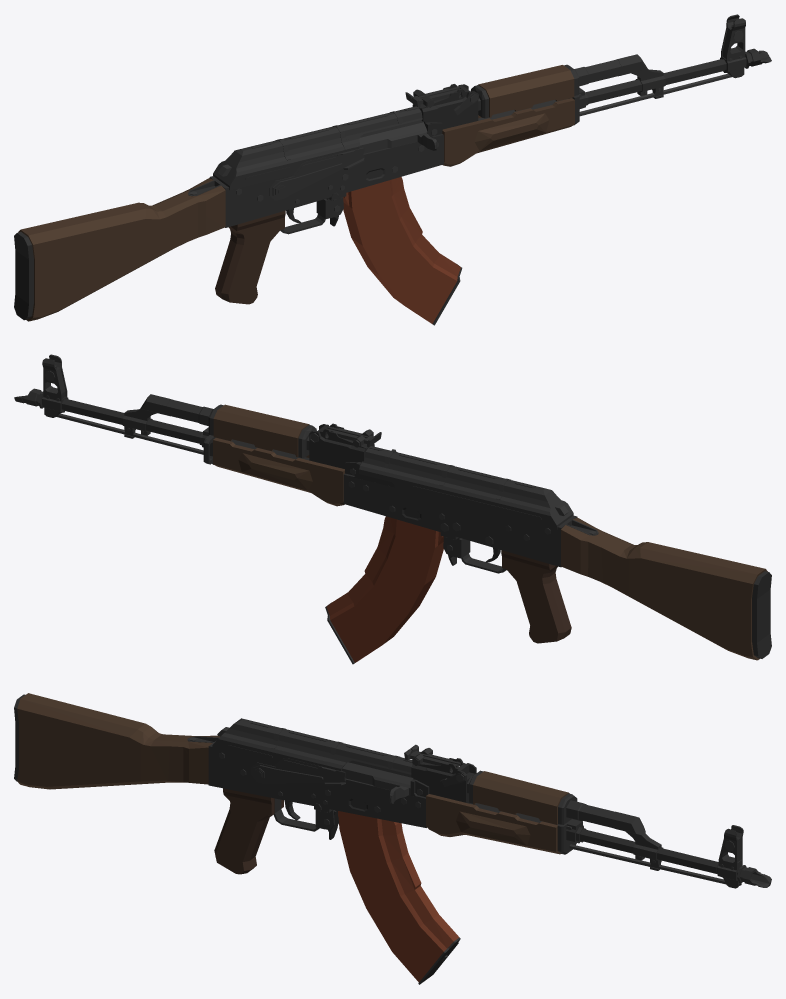
Rendered from rifle_akm.glb.
3 renders of one model, top to bottom at view 1: azimuth 30°, elevation 25°; view 2: azimuth 150°, elevation 25°; view 3: azimuth 330°, elevation 25°, orthographic.
Parts seen in each view (by area): view 1: AKM_0; view 2: AKM_0; view 3: AKM_0.
Part boxes in pixels (x1,y1,x2,y2): AKM_0: (14, 14, 771, 325); AKM_0: (14, 354, 771, 664); AKM_0: (14, 693, 771, 984).
Size of the model in its own units: 4.8 by 1.39 by 0.3779.
